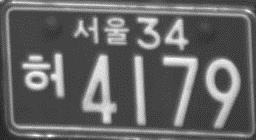1: (129, 53, 149, 128)
3: (134, 16, 161, 50)
4: (79, 53, 120, 125), (163, 16, 189, 50)
7: (161, 54, 202, 127)
9: (203, 56, 243, 131)
서울_O: (71, 14, 130, 47)
허: (21, 51, 66, 98)
